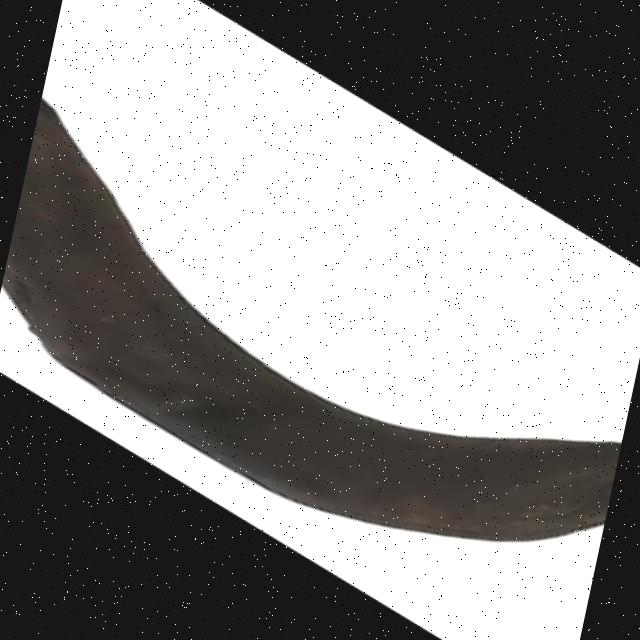Rotten: (0, 98, 640, 571)
